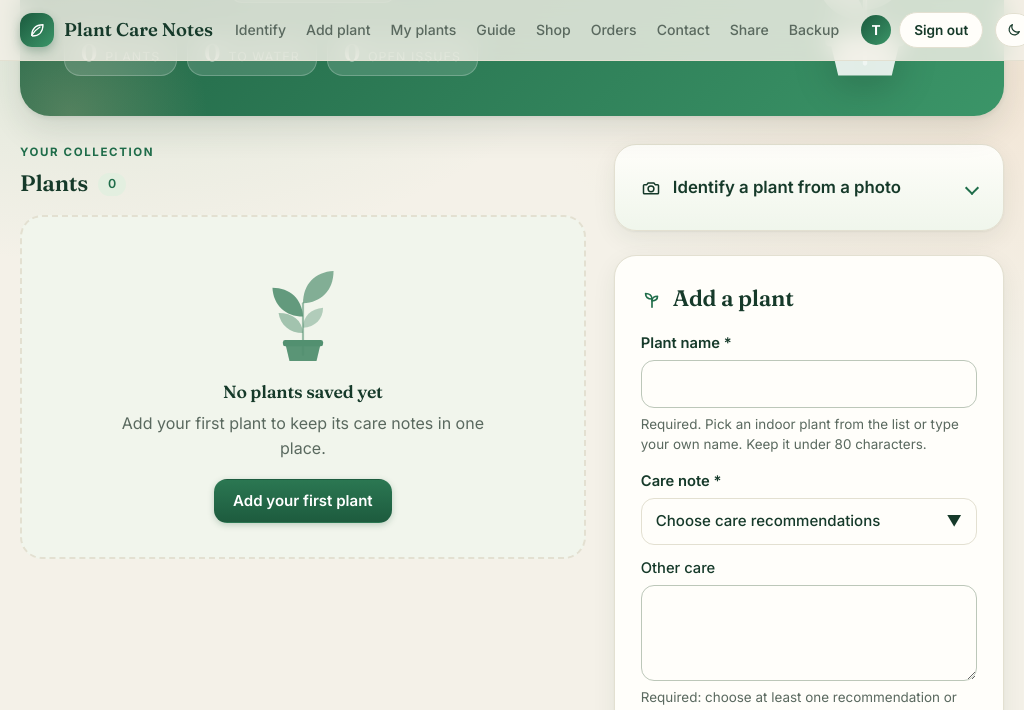
Scenario: Plant Care Notes › accepts recommendations alone as the care note (check 13)
(page scrolled)
In the field labelled "Plant name *": (809, 384) [641,360,977,408], type "Aloe"
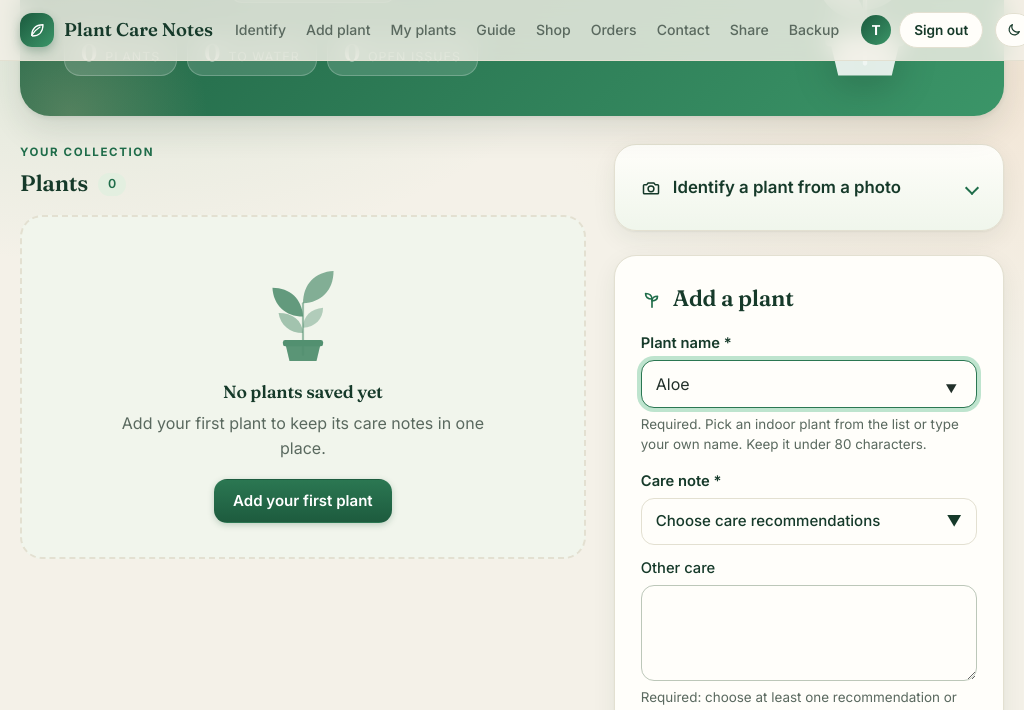
Click the button named "care note": (809, 522) [641,498,977,545]
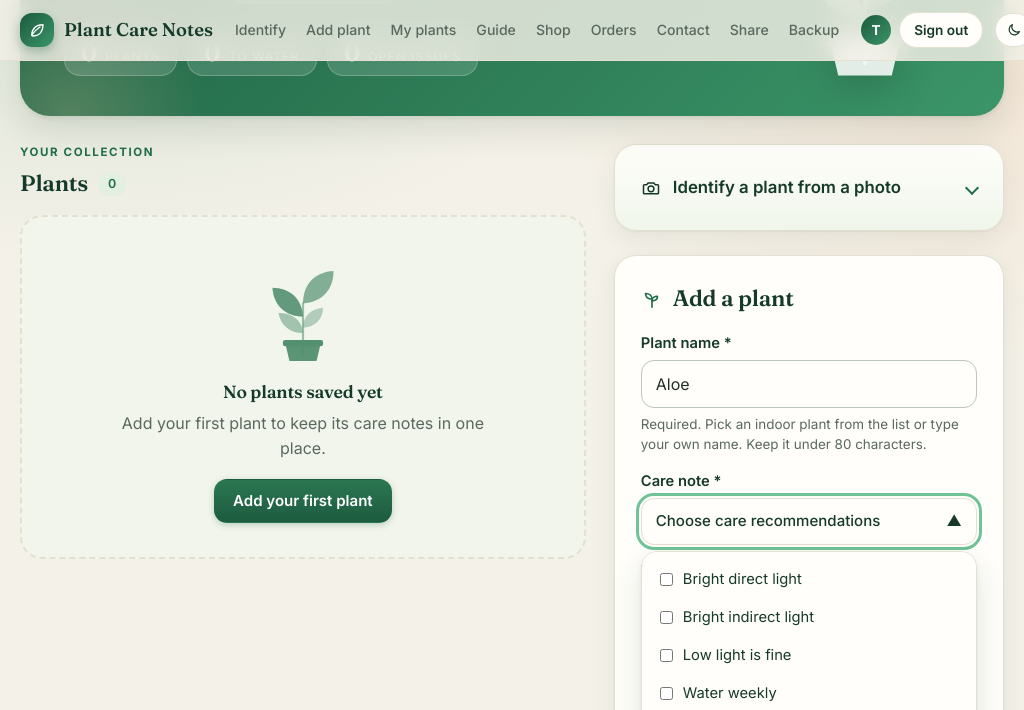
Click the checkbox labelled "Water weekly": (666, 693) [660,687,673,700]
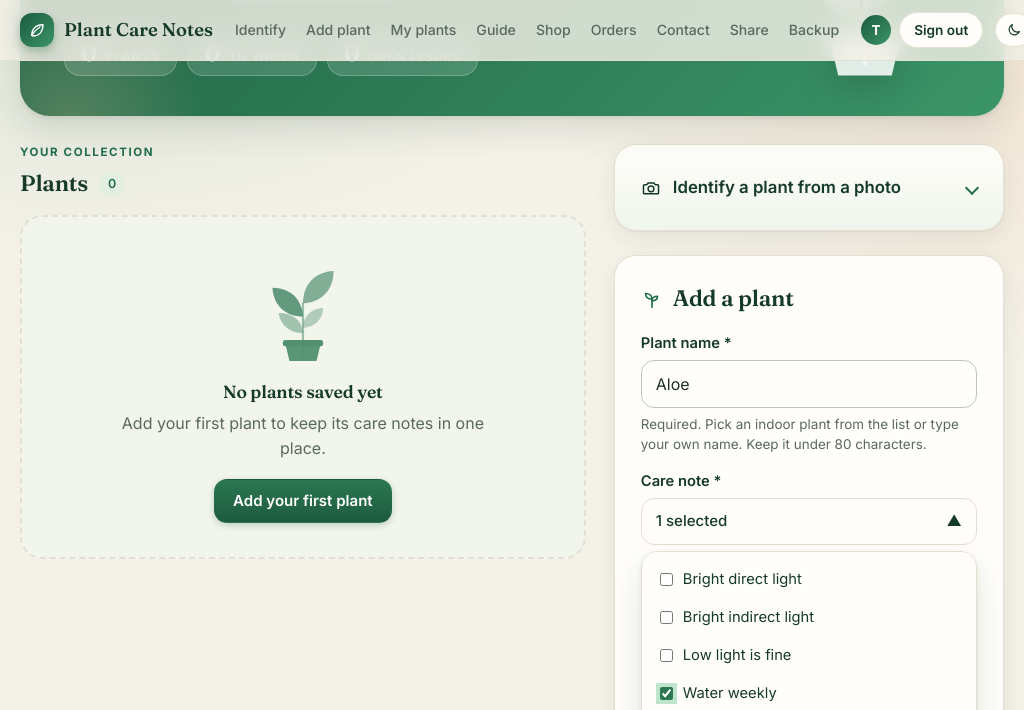
Click the checkbox labelled "Bright indirect light": (666, 617) [660,611,673,624]
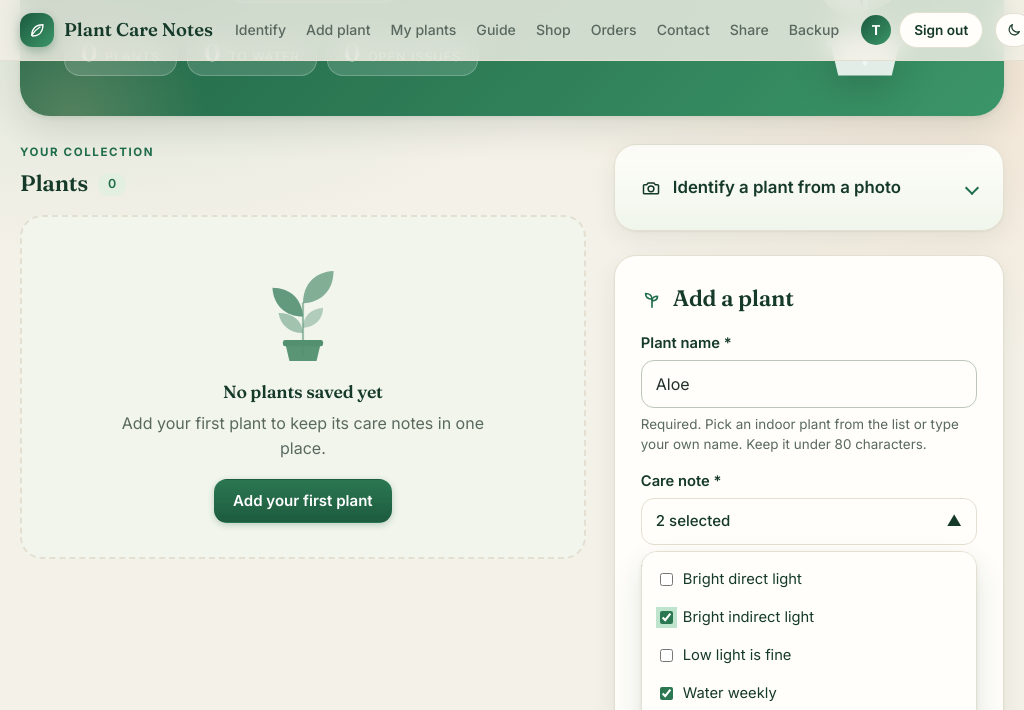
Press Escape
(page scrolled)
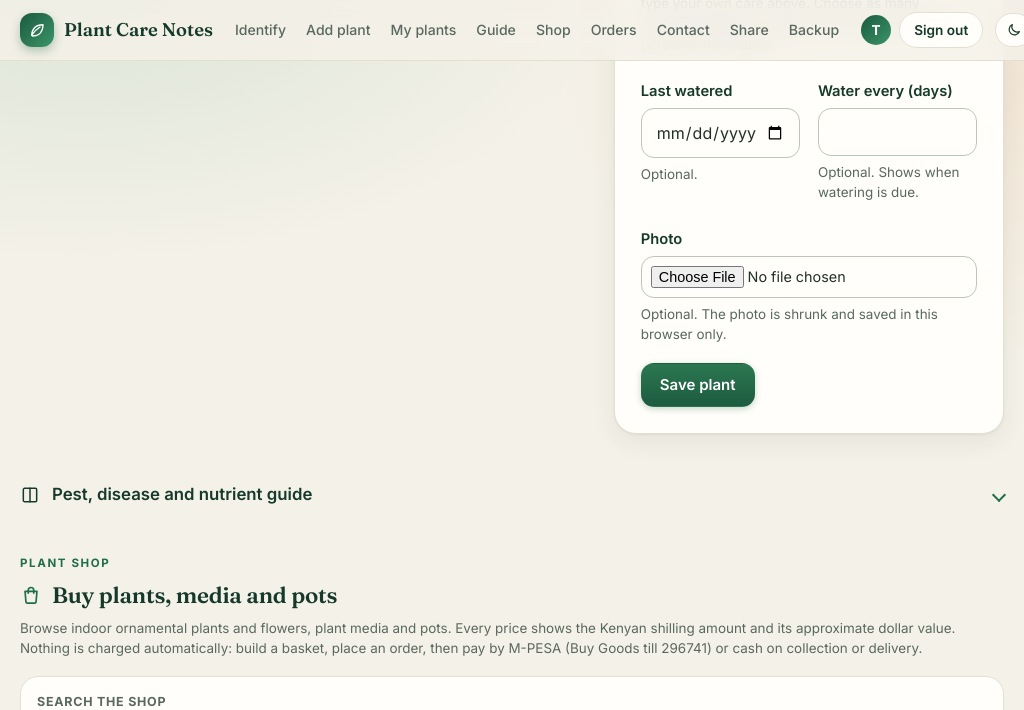
Click the button "Save plant": (698, 385) [641,362,755,407]
(page scrolled)
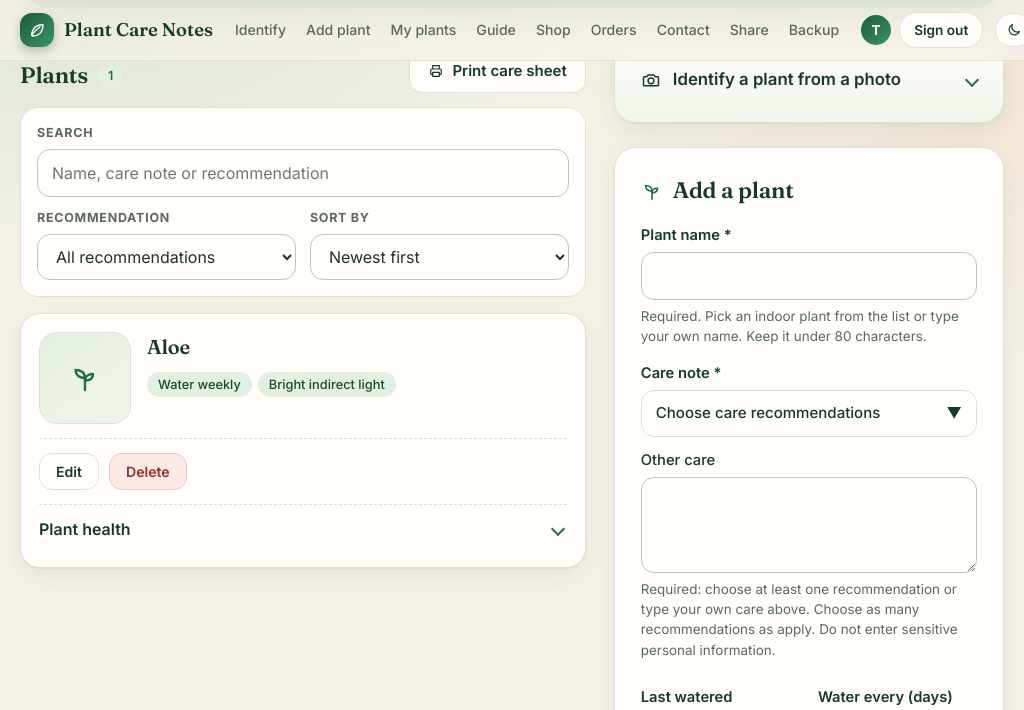
Result: the list item "Water weekly" is shown at [147,372,252,397]
Result: the list item "Bright indirect light" is shown at [258,372,396,397]
